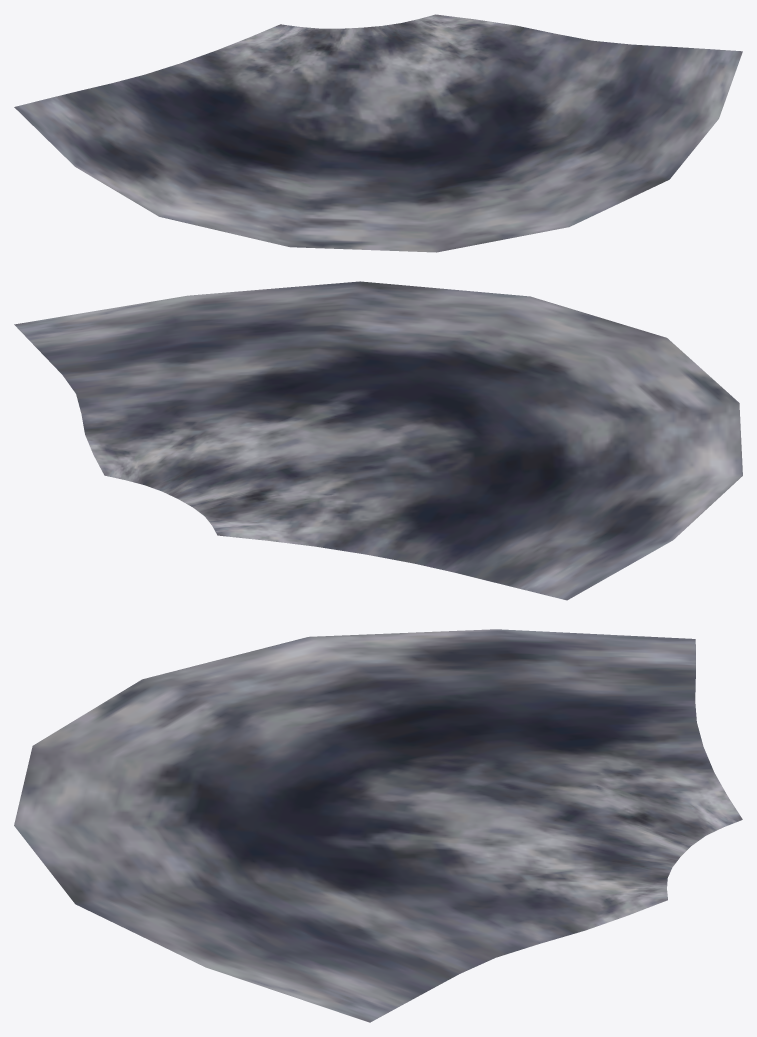
File: CB_NEWPLAYSURFACE_CB_WATERFALLS06.fbx
The picture shows the model from 3 angles, top to bottom: view 1: azimuth 30°, elevation 25°; view 2: azimuth 150°, elevation 25°; view 3: azimuth 270°, elevation 25°; orthographic projection. The views are drawn at different scales.
Visible parts, largest first — view 1: CB_NEWPLAYSURFACE_CB_WATERFALLS06; view 2: CB_NEWPLAYSURFACE_CB_WATERFALLS06; view 3: CB_NEWPLAYSURFACE_CB_WATERFALLS06.
Boxes of the visible parts, bbox=[...] form: CB_NEWPLAYSURFACE_CB_WATERFALLS06: bbox=[14, 14, 742, 252]; CB_NEWPLAYSURFACE_CB_WATERFALLS06: bbox=[14, 281, 742, 600]; CB_NEWPLAYSURFACE_CB_WATERFALLS06: bbox=[14, 629, 742, 1022].
Bounding box in the file's own units: 174188 × 1594 × 136358.
Materials: 1 (1 with a texture image).
